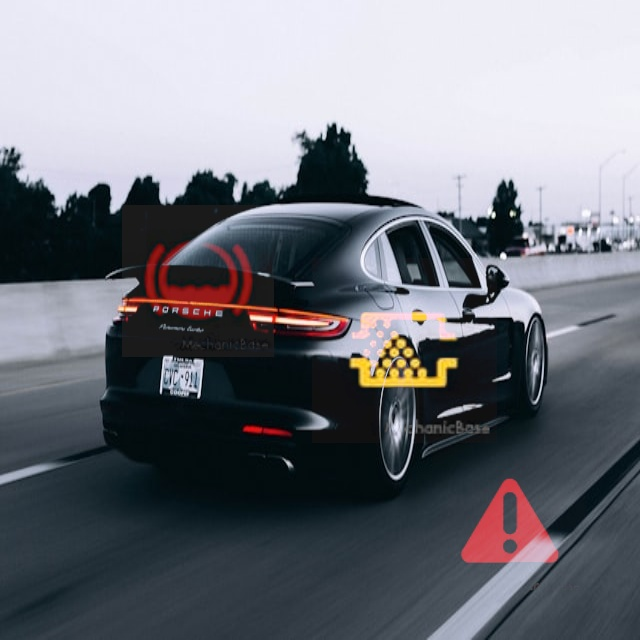symbol: (312, 258, 497, 443), (433, 445, 586, 598), (122, 205, 274, 357)
